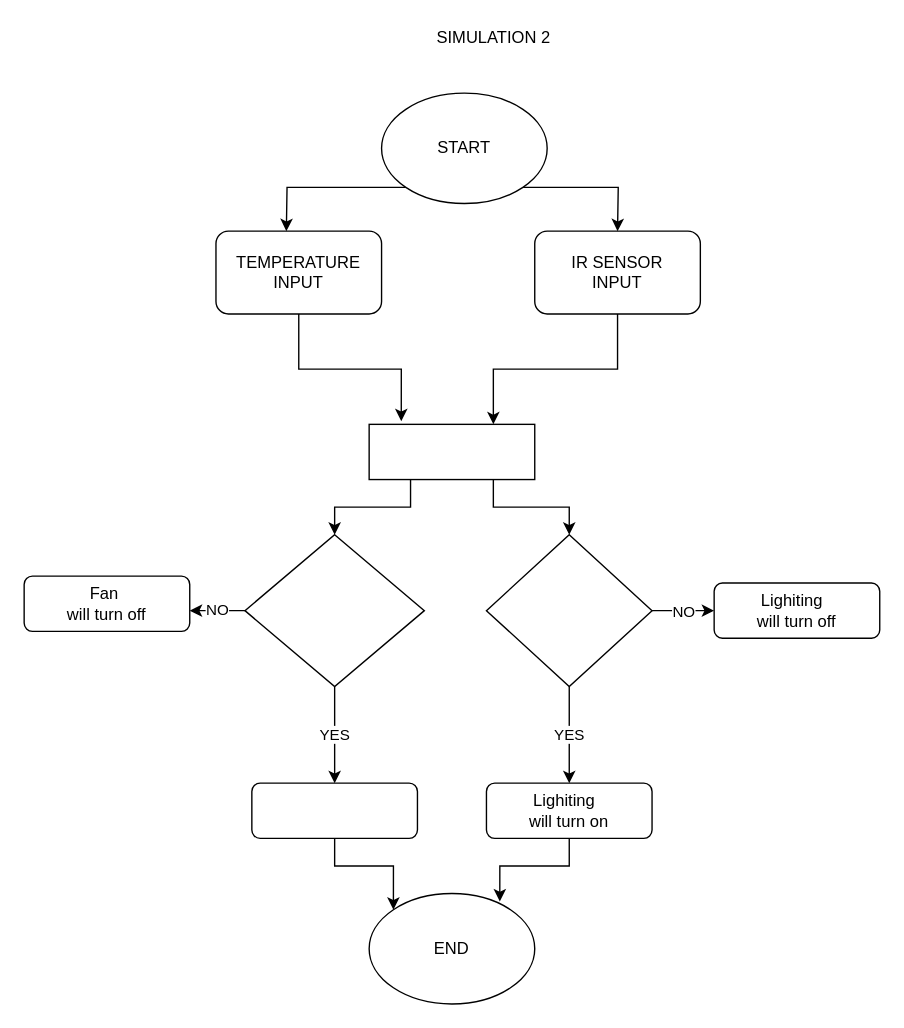
The diagram is 904 pixels wide and 1028 high, and some of its shapes have lost their labels. Here are the shapes that lost their labels. From the top down, the centre of each, then its label:
At (451,451): "ATMEGA328".
At (334,610): "TEMPERATURE IS > 35".
At (568,610): "Sensor input is high".
At (333,810): "Fan will turn on".
